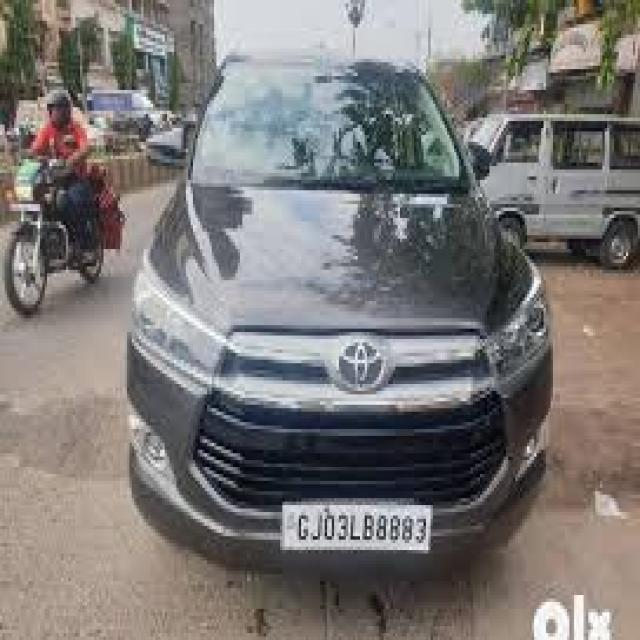light_vehicle: (127, 45, 554, 570)
